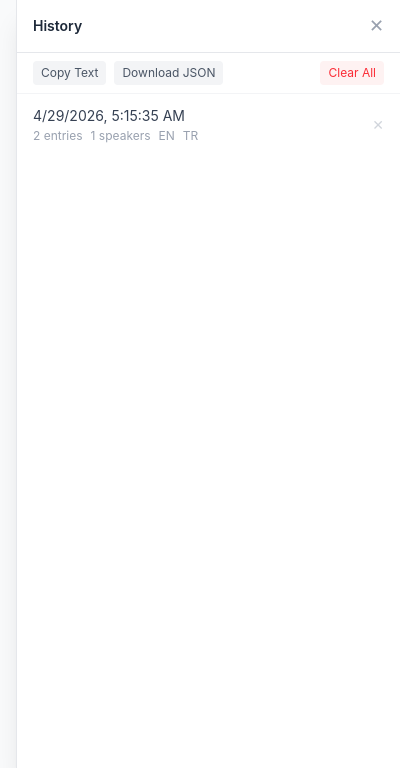
ConversationHistory › shows detail view when session clicked
Click the text "2 entries" at (58,136), box [33, 128, 83, 144]
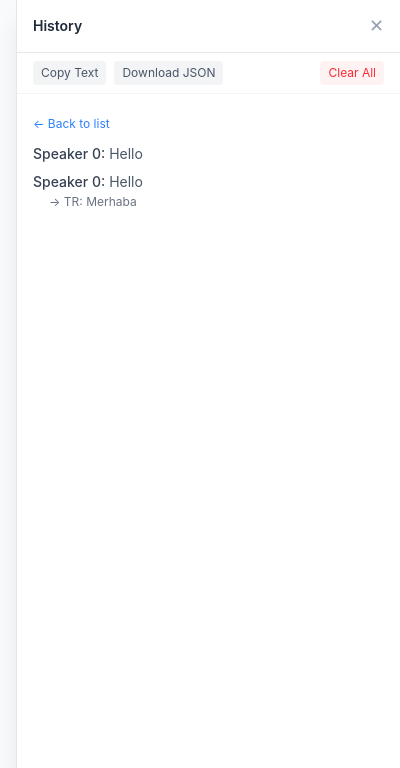
expect the text "Speaker 0:" is shown 2 times: met, box [33, 145, 105, 162]; [33, 173, 105, 190]
expect the button "← Back to list" is shown: met, box [33, 116, 110, 132]
